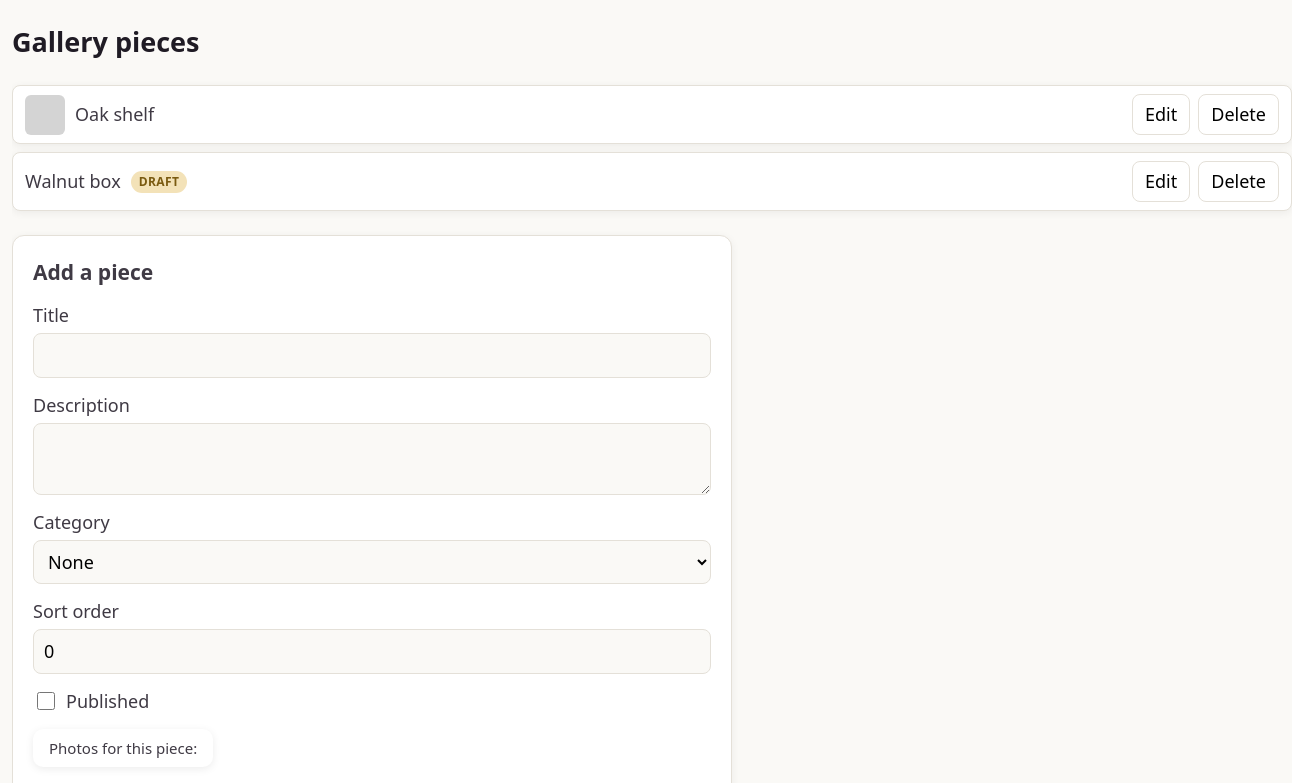
GalleryPanel › surfaces delete failures
Expected: the text "Oak shelf" is shown, [25,95,154,135]
Click the button "Delete" in the row of "Oak shelf".
click(1239, 115)  # box [1198,94,1279,135]
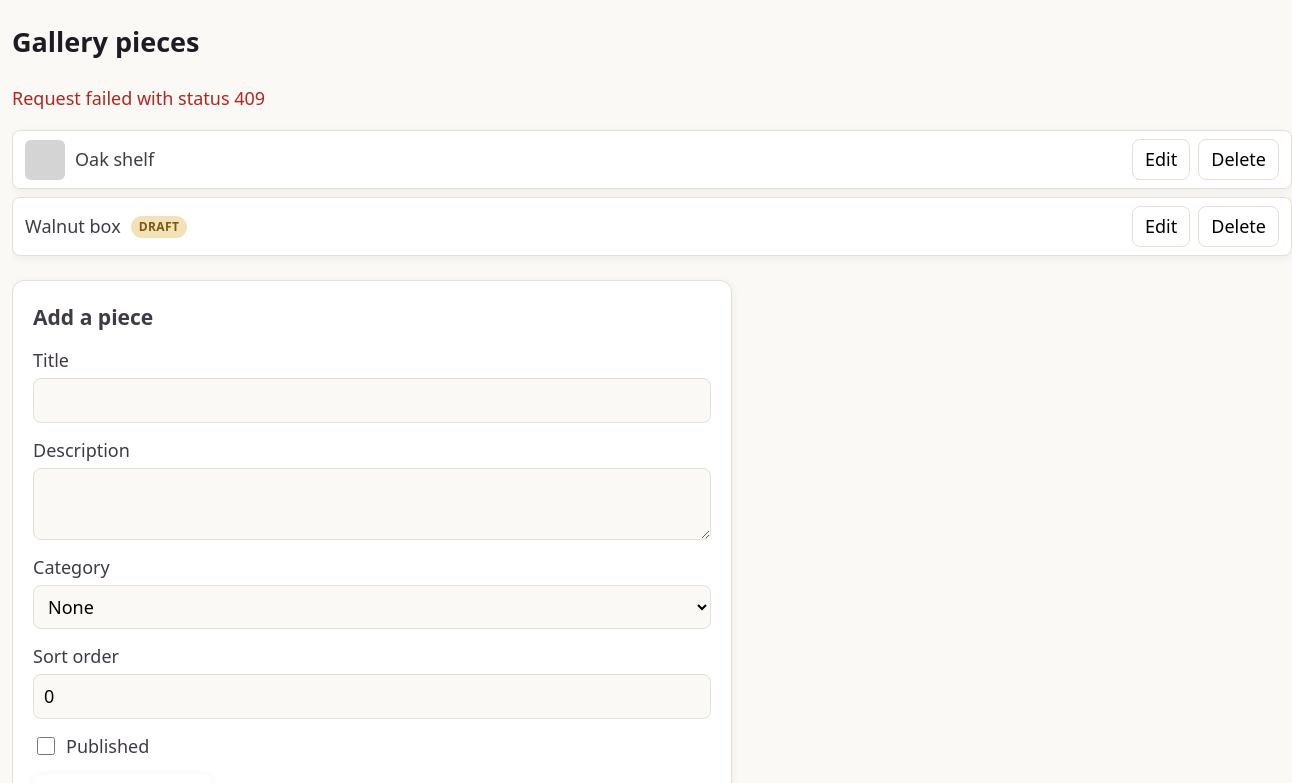
Result: the text "Request failed with status 409" is shown at [12,86,265,110]
